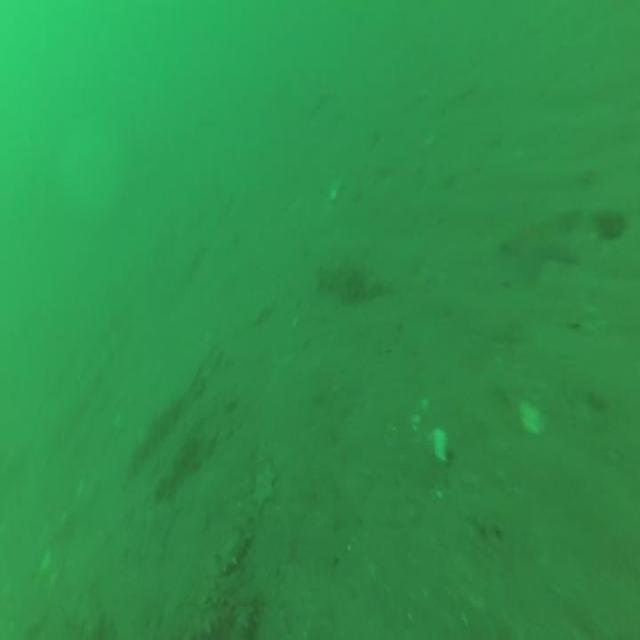holothurian: (118, 388, 187, 468), (313, 253, 395, 300), (150, 430, 203, 502), (206, 517, 252, 577)
starfish: (502, 198, 580, 278)
